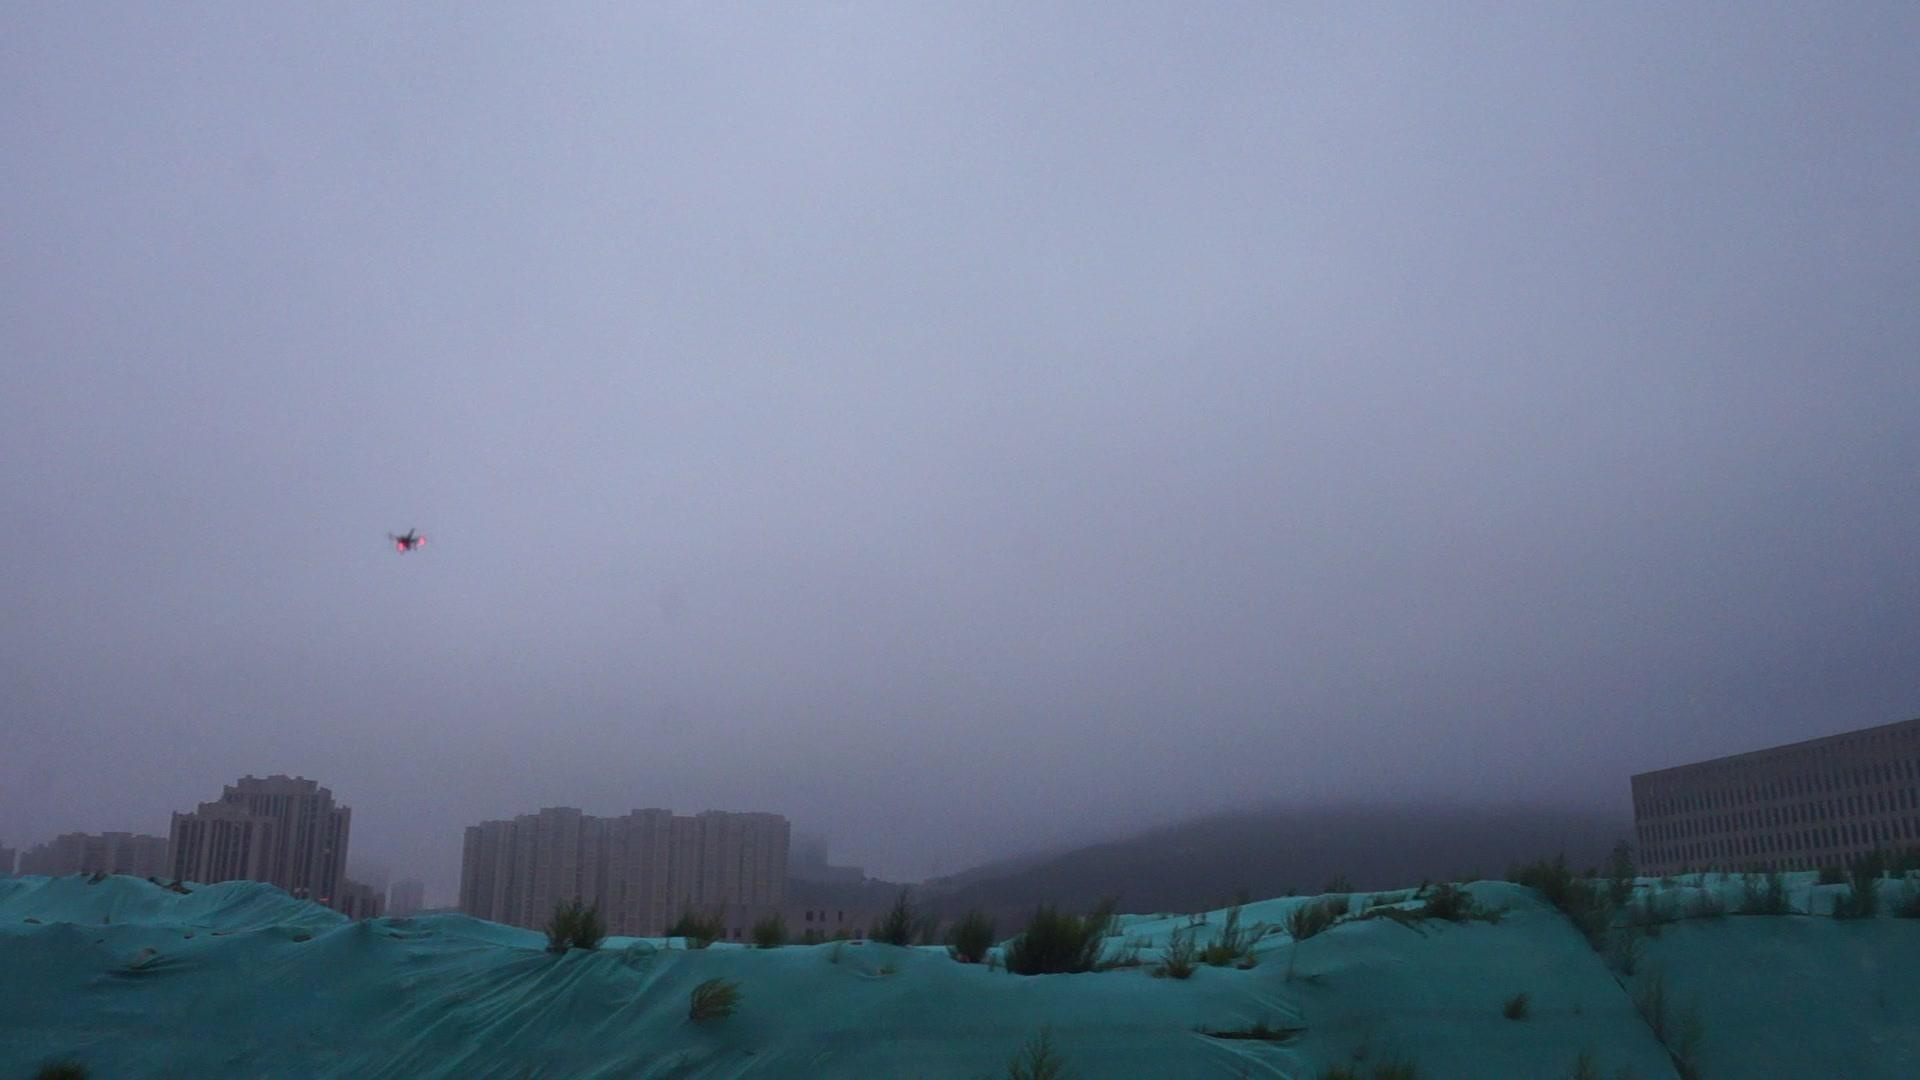UAV: (389, 529, 429, 555)
